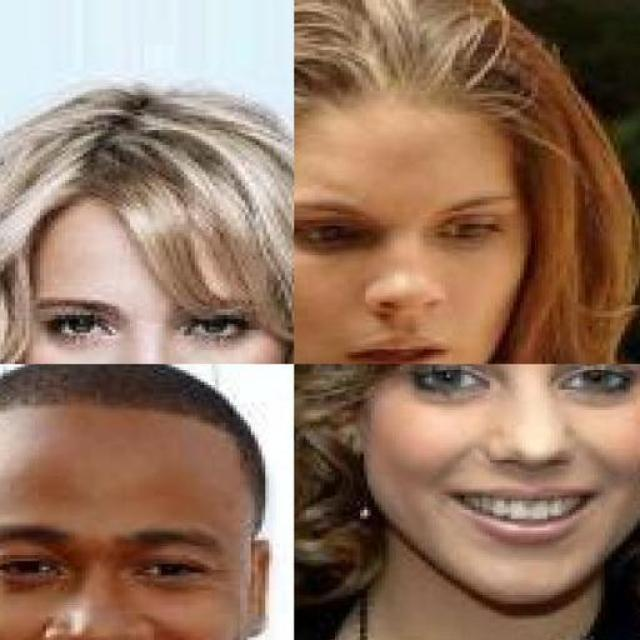bareface: (289, 18, 566, 358)
